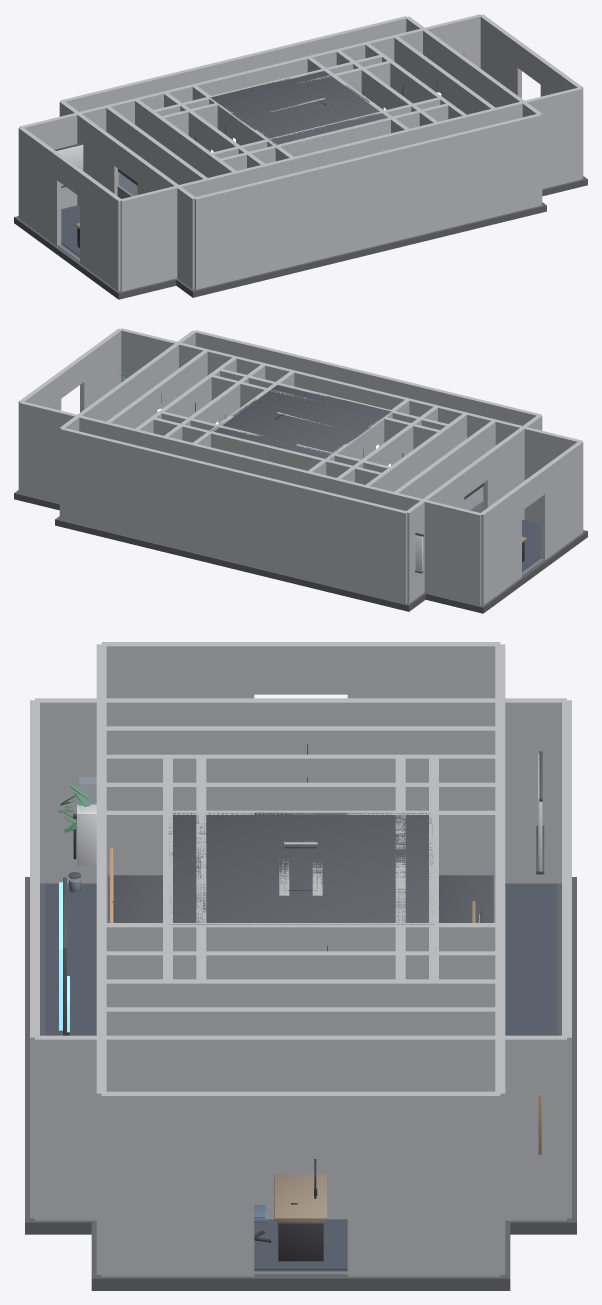
File: blocks.glb
The picture shows the model from 3 angles, top to bottom: view 1: azimuth 30°, elevation 25°; view 2: azimuth 150°, elevation 25°; view 3: azimuth 270°, elevation 25°; orthographic projection. The views are drawn at different scales.
Visible parts, largest first — view 1: Block_board12_Wall_S_0, Block_open8_Wall_S_0, Block_open8_Wall_N_0, Phone_PHONE1_Hood, Block_board12_Wall_N_0, Block_open8_Wall_W_1, Block_open8_Wall_W_0, Block_board12_Slab, Block_board12_Wall_E_0, Block_board12_Wall_W_0, Block_hoot4_Wall_S_0, Block_board12_Wall_W_1 (+41 smaller); view 2: Block_board12_Wall_N_0, Block_open8_Wall_N_0, Phone_PHONE1_Hood, Block_open8_Wall_S_0, Block_board12_Wall_S_0, Block_open8_Wall_W_0, Block_open8_Wall_W_1, Block_break6_Wall_N_0, Block_board12_Slab, Block_focus6_Wall_S_0, Block_board12_Wall_W_0, Block_hoot4_Wall_N_0 (+43 smaller); view 3: Block_board12_Wall_E_0, Block_open8_Wall_E_1, Block_open8_Wall_E_0, Phone_PHONE1_Hood, Block_board12_Wall_W_1, Block_board12_Floor, Block_board12_Wall_W_0, Block_hoot4_Wall_E_0, Block_open8_Wall_W_0, Block_open8_Wall_W_1, Block_forum16_Wall_E_1, Block_forum16_Wall_E_0 (+63 smaller).
Part boxes in pixels (left/top/right/bottom): Block_board12_Wall_S_0: left=194, top=113, right=541, bottom=289; Block_open8_Wall_S_0: left=119, top=87, right=582, bottom=291; Block_open8_Wall_N_0: left=19, top=14, right=481, bottom=208; Phone_PHONE1_Hood: left=210, top=71, right=387, bottom=145; Block_board12_Wall_N_0: left=60, top=16, right=406, bottom=111; Block_open8_Wall_W_1: left=18, top=127, right=61, bottom=246; Block_open8_Wall_W_0: left=80, top=172, right=120, bottom=291; Block_board12_Slab: left=75, top=202, right=546, bottom=297; Block_board12_Wall_E_0: left=405, top=16, right=542, bottom=204; Block_board12_Wall_W_0: left=137, top=158, right=195, bottom=289; Block_hoot4_Wall_S_0: left=265, top=124, right=437, bottom=179; Block_board12_Wall_W_1: left=59, top=101, right=118, bottom=198; Block_board12_Wall_N_0: left=60, top=427, right=407, bottom=603; Block_open8_Wall_N_0: left=19, top=401, right=482, bottom=605; Phone_PHONE1_Hood: left=214, top=385, right=391, bottom=458; Block_open8_Wall_S_0: left=120, top=328, right=582, bottom=522; Block_board12_Wall_S_0: left=195, top=330, right=541, bottom=425; Block_open8_Wall_W_0: left=540, top=441, right=583, bottom=560; Block_open8_Wall_W_1: left=481, top=486, right=521, bottom=605; Block_break6_Wall_N_0: left=106, top=422, right=395, bottom=507; Block_board12_Slab: left=55, top=516, right=526, bottom=611; Block_focus6_Wall_S_0: left=178, top=343, right=523, bottom=445; Block_board12_Wall_W_0: left=483, top=415, right=542, bottom=519; Block_hoot4_Wall_N_0: left=163, top=438, right=336, bottom=493; Block_board12_Wall_E_0: left=35, top=1035, right=566, bottom=1220; Block_open8_Wall_E_1: left=347, top=1091, right=500, bottom=1276; Block_open8_Wall_E_0: left=101, top=1091, right=254, bottom=1276; Phone_PHONE1_Hood: left=168, top=813, right=433, bottom=924; Block_board12_Wall_W_1: left=347, top=698, right=566, bottom=883; Block_board12_Floor: left=45, top=884, right=556, bottom=1035; Block_board12_Wall_W_0: left=35, top=698, right=254, bottom=883; Block_hoot4_Wall_E_0: left=106, top=951, right=495, bottom=979; Block_open8_Wall_W_0: left=101, top=642, right=254, bottom=698; Block_open8_Wall_W_1: left=347, top=642, right=500, bottom=698; Block_forum16_Wall_E_1: left=348, top=1035, right=566, bottom=1220; Block_forum16_Wall_E_0: left=35, top=1036, right=254, bottom=1220.
Bounding box in the file's own units: 16.3 × 3.2 × 8.3.
